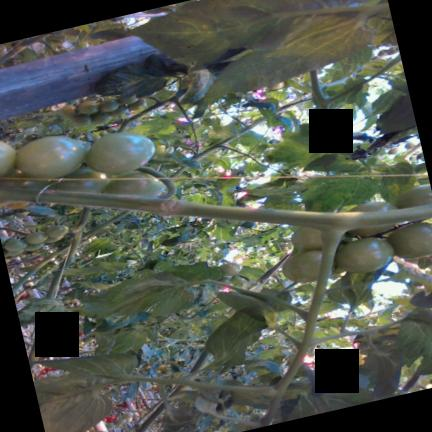6kp_peduncle: (115, 167, 196, 217), (146, 97, 171, 110)
6kp_petiole: (278, 210, 390, 289), (85, 218, 121, 241), (202, 138, 237, 155)
MainStem: (0, 188, 432, 231), (45, 207, 90, 299), (191, 118, 265, 162), (117, 94, 185, 132), (0, 34, 51, 65), (82, 211, 131, 240), (255, 251, 293, 284)
tomato: (16, 136, 87, 178), (85, 132, 154, 174), (335, 237, 393, 272), (348, 202, 397, 236), (386, 222, 432, 258), (103, 171, 165, 196), (56, 167, 108, 193), (282, 250, 321, 282), (395, 185, 432, 208), (291, 227, 322, 251), (0, 141, 16, 176), (344, 351, 366, 365), (219, 262, 241, 276), (98, 98, 119, 112), (24, 232, 48, 244), (45, 225, 68, 237), (4, 239, 27, 251), (77, 101, 98, 114), (90, 112, 110, 124), (71, 114, 91, 126), (127, 98, 146, 110), (108, 105, 127, 117), (60, 105, 76, 117), (118, 95, 137, 104), (24, 243, 44, 251), (4, 249, 23, 256), (44, 236, 62, 243), (154, 145, 166, 155), (269, 82, 284, 90), (405, 142, 415, 149), (388, 148, 398, 154)
